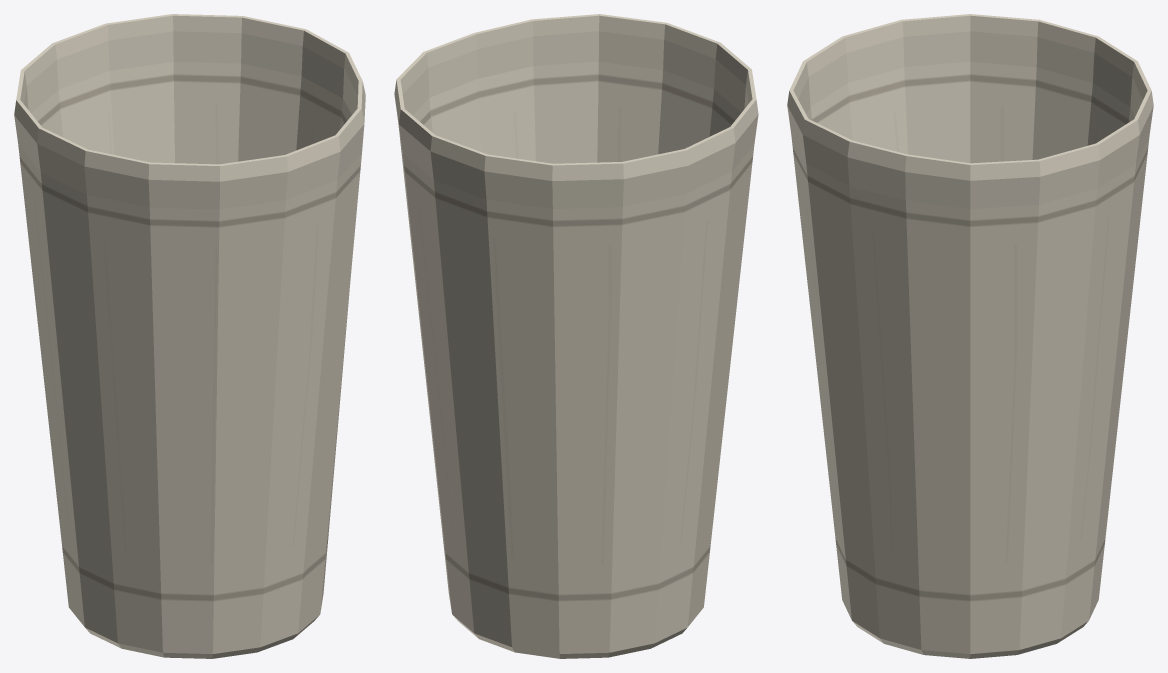
Rendered from litter_cup.glb.
The picture shows the model from 3 angles, left to right: view 1: azimuth 30°, elevation 25°; view 2: azimuth 150°, elevation 25°; view 3: azimuth 270°, elevation 25°; orthographic projection.
Parts seen in each view (by area): view 1: litter_cup; view 2: litter_cup; view 3: litter_cup.
Part boxes in pixels (left/top/right/bottom): litter_cup: left=14, top=14, right=365, bottom=658; litter_cup: left=394, top=14, right=758, bottom=658; litter_cup: left=787, top=14, right=1153, bottom=658.
Bounding box in the file's own units: 0.0889 × 0.14 × 0.09.
1 material, 1 textured.
